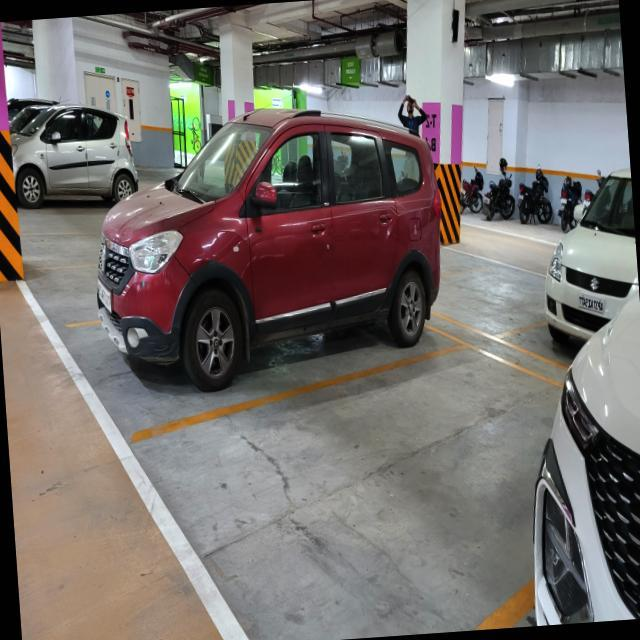car: (86, 214, 410, 406), (524, 173, 640, 374)
free: (135, 341, 501, 640), (428, 251, 554, 333)
